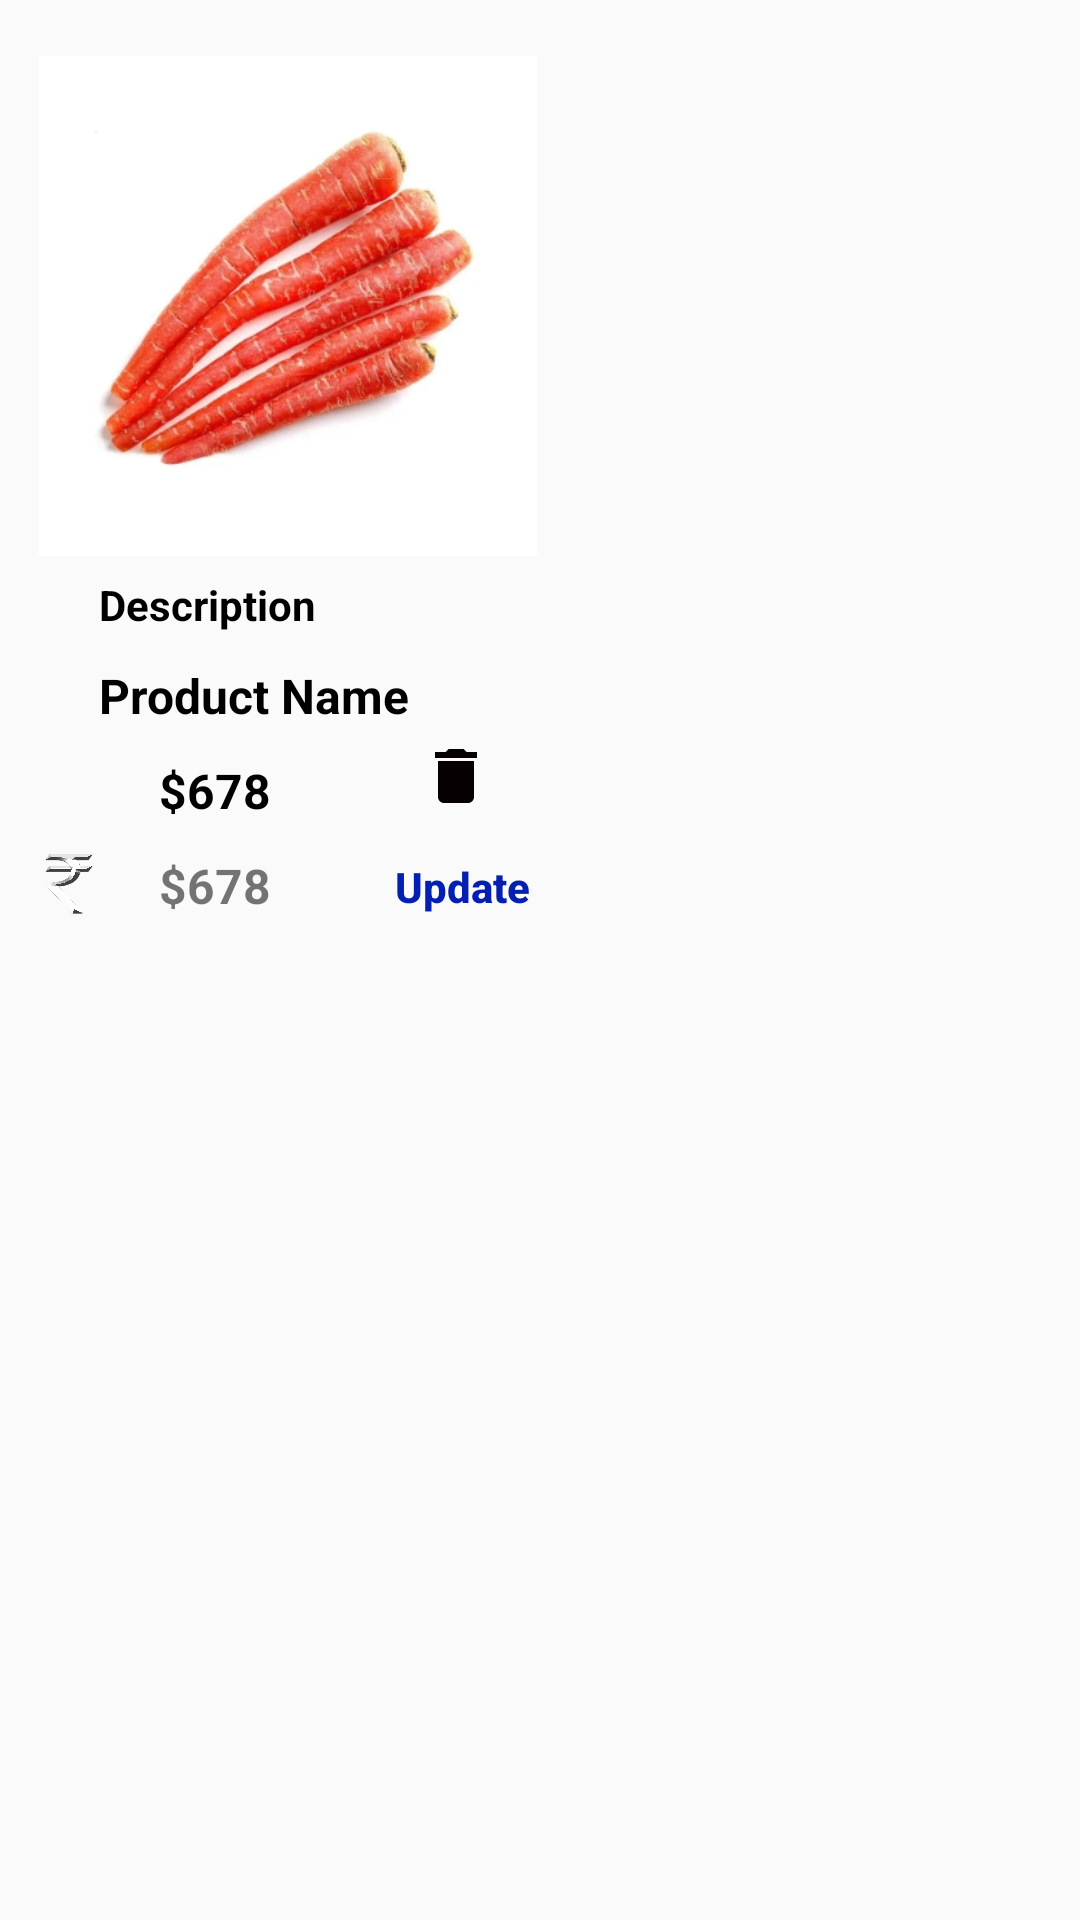

Icons on this 1080*1920 Android screen, each with its box as (x1, y1, x2, y2):
delete: (435, 749, 477, 803)
ru free: (46, 854, 93, 914)
